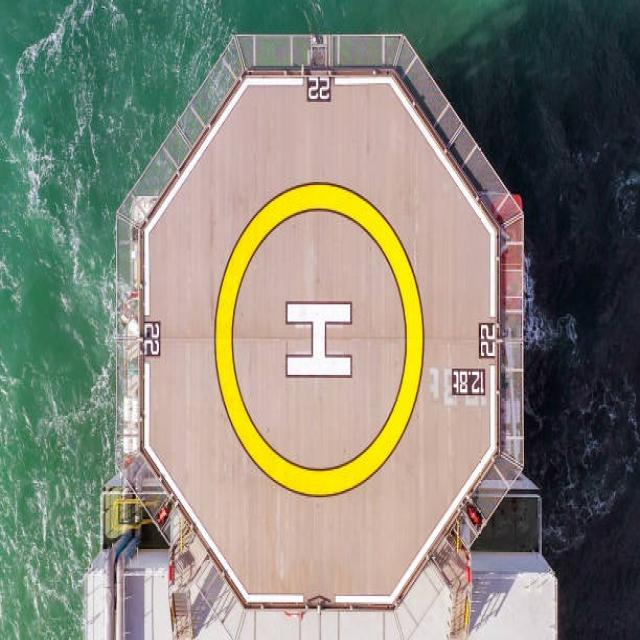helipad: (207, 176, 428, 502)
